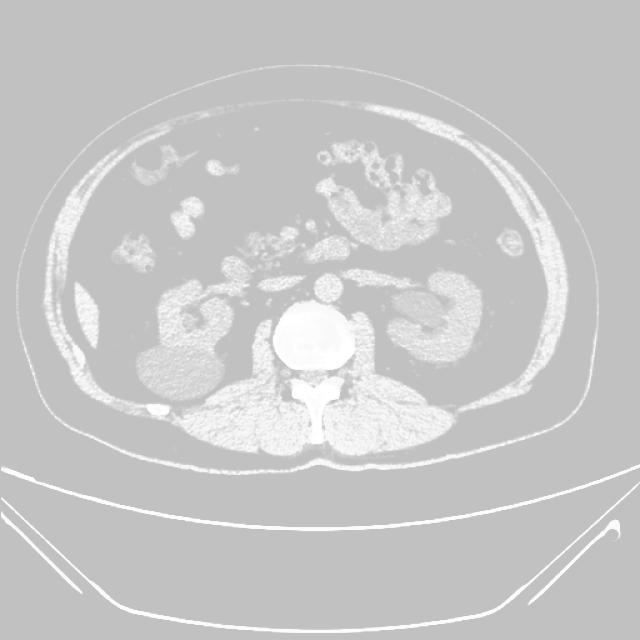cysts: (36, 88, 576, 469)
